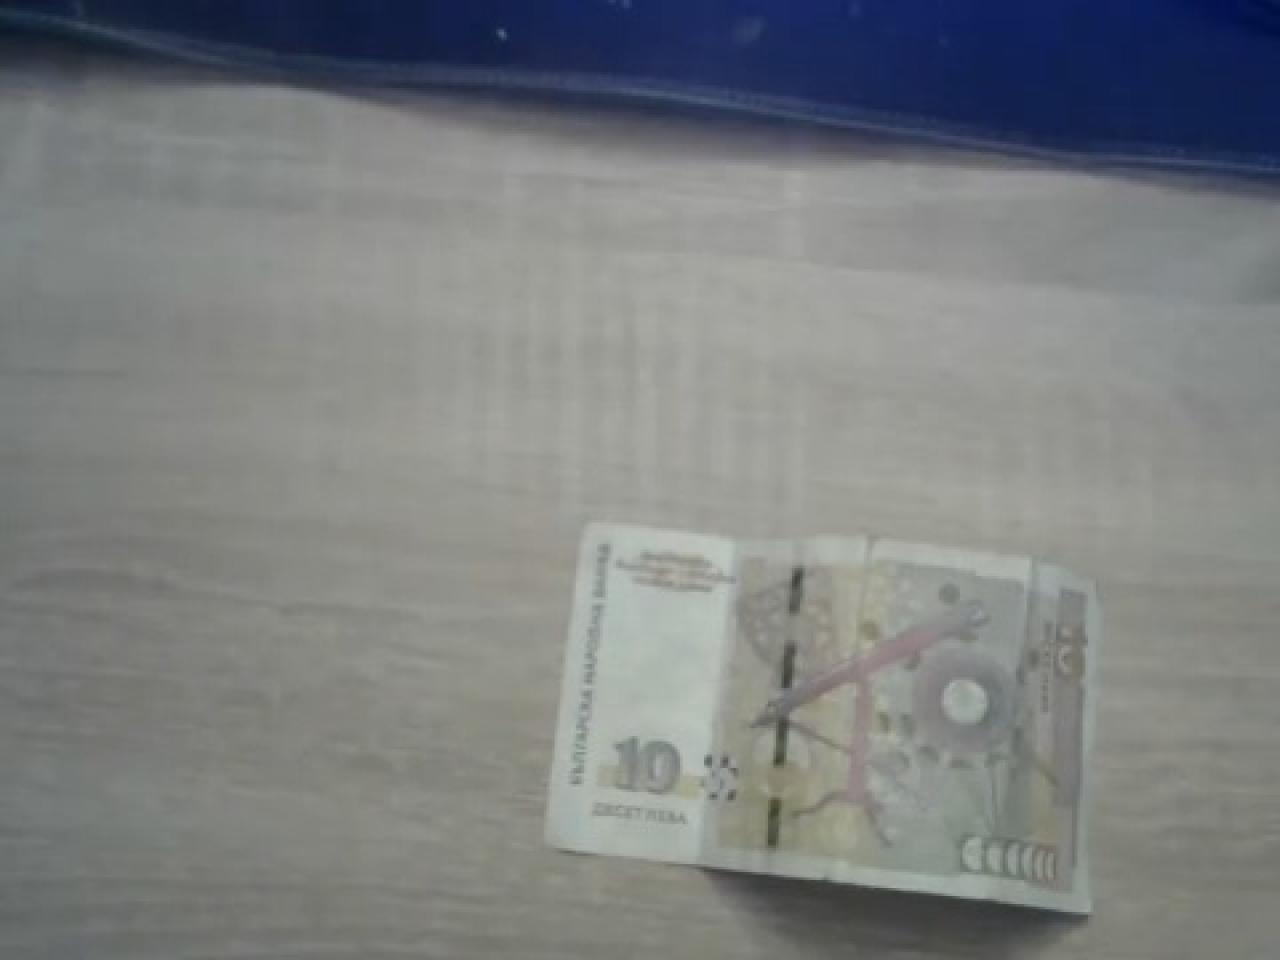10leva: (541, 522, 1102, 920)
